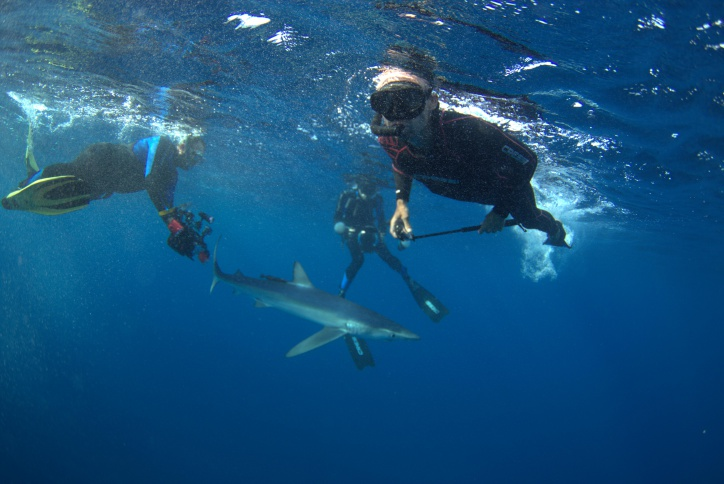Azul: (199, 240, 437, 375)
